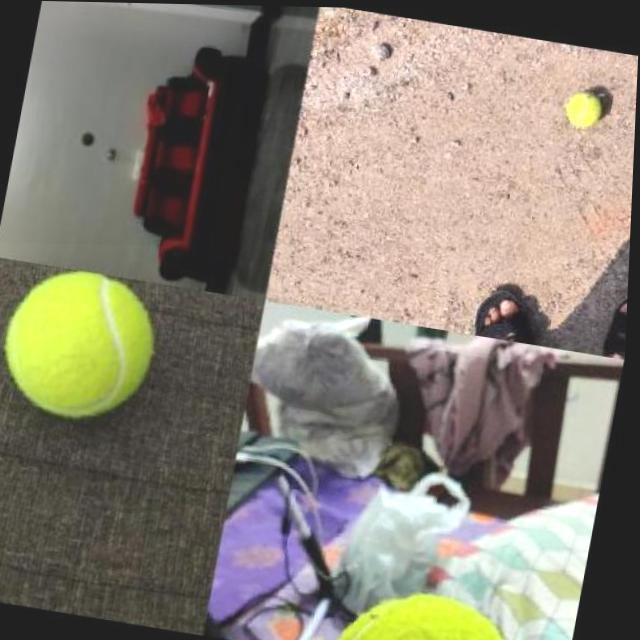-: (0, 242, 223, 463)
